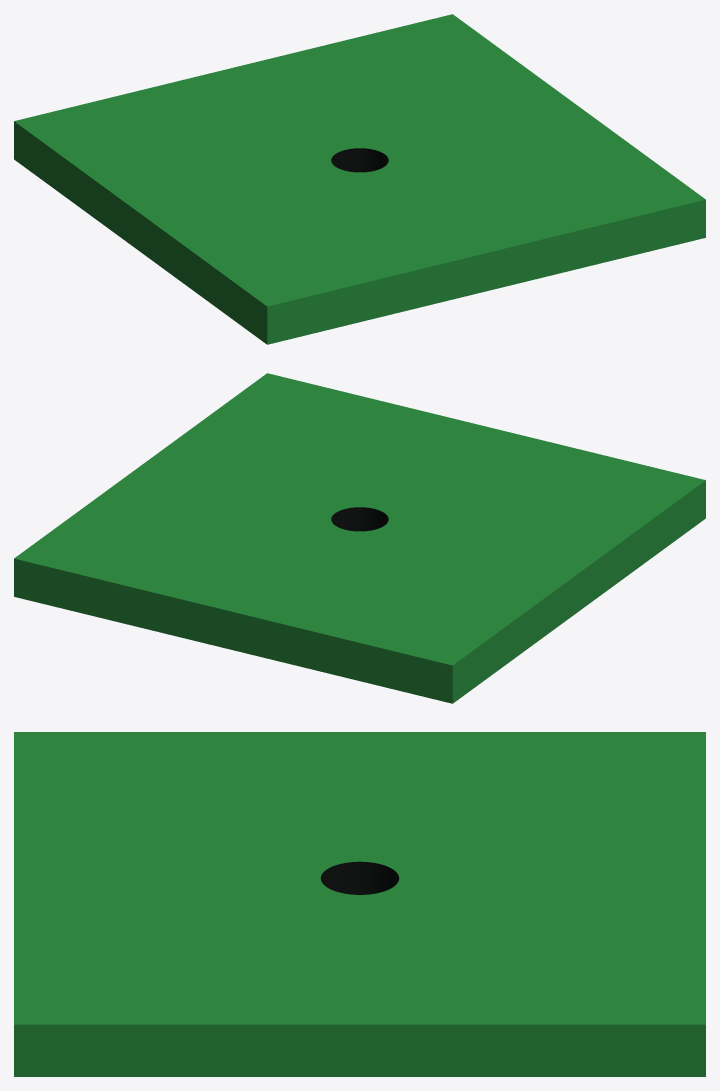
Rendered from Turf_Hole_Tile_60cm.obj.
The picture shows the model from 3 angles, top to bottom: view 1: azimuth 30°, elevation 25°; view 2: azimuth 150°, elevation 25°; view 3: azimuth 270°, elevation 25°; orthographic projection. The views are drawn at different scales.
Parts seen in each view (by area): view 1: Turf_Hole_Tile_60cm; view 2: Turf_Hole_Tile_60cm; view 3: Turf_Hole_Tile_60cm.
Part boxes in pixels (<box>): Turf_Hole_Tile_60cm: <box>14,14,705,344</box>; Turf_Hole_Tile_60cm: <box>14,373,705,703</box>; Turf_Hole_Tile_60cm: <box>14,732,705,1076</box>.
Size of the model in its own units: 0.6 by 0.05 by 0.6.
